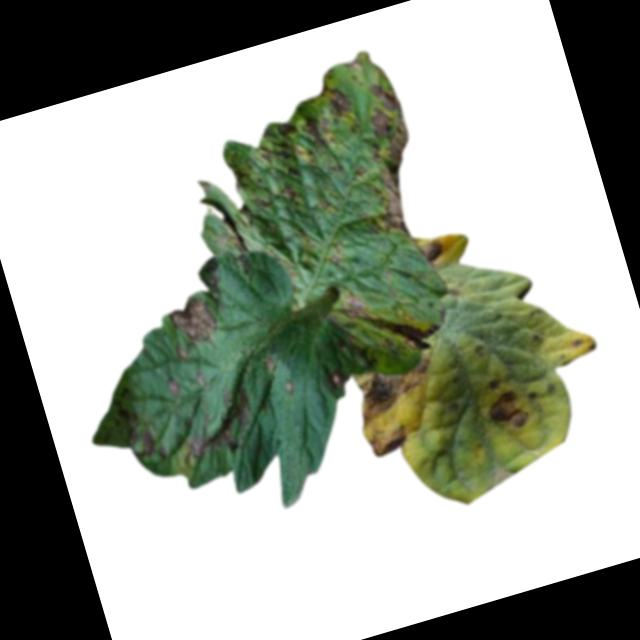Early_blight: (343, 79, 436, 243), (334, 271, 445, 369), (168, 383, 262, 469), (348, 352, 442, 428), (251, 108, 342, 184), (162, 292, 224, 364), (483, 382, 542, 433), (362, 418, 410, 459), (133, 418, 169, 465), (318, 79, 350, 120), (417, 238, 447, 266), (162, 373, 184, 401), (327, 368, 348, 393), (280, 182, 300, 203), (484, 374, 505, 393)
